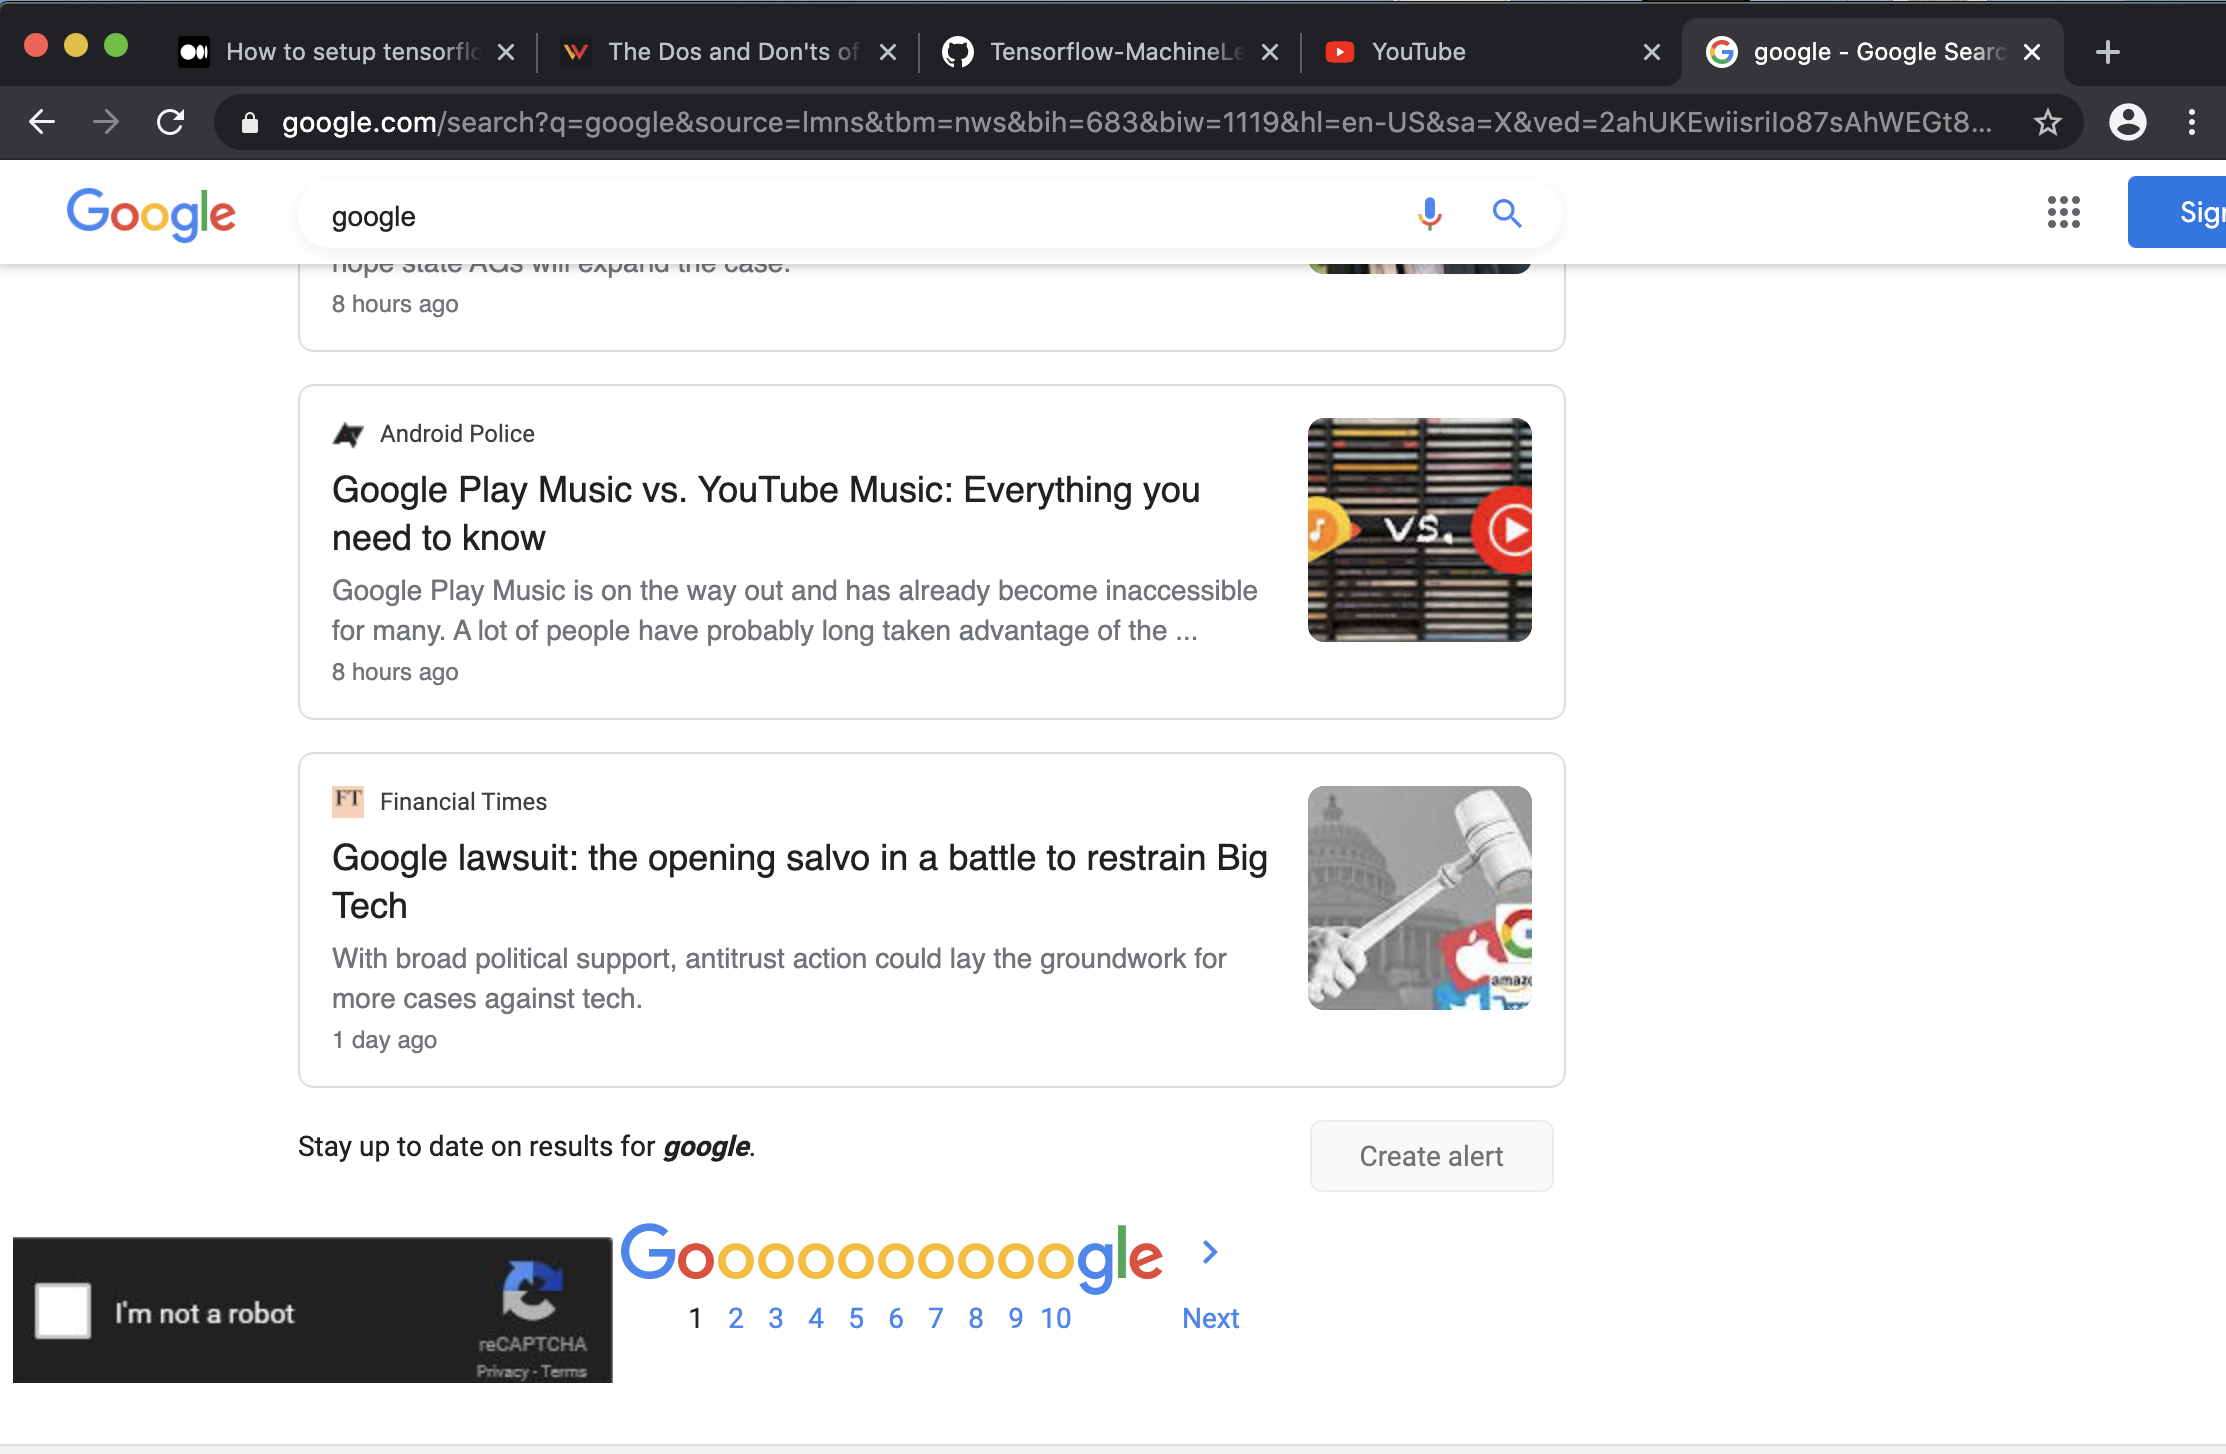captcha: (10, 1220, 633, 1404)
